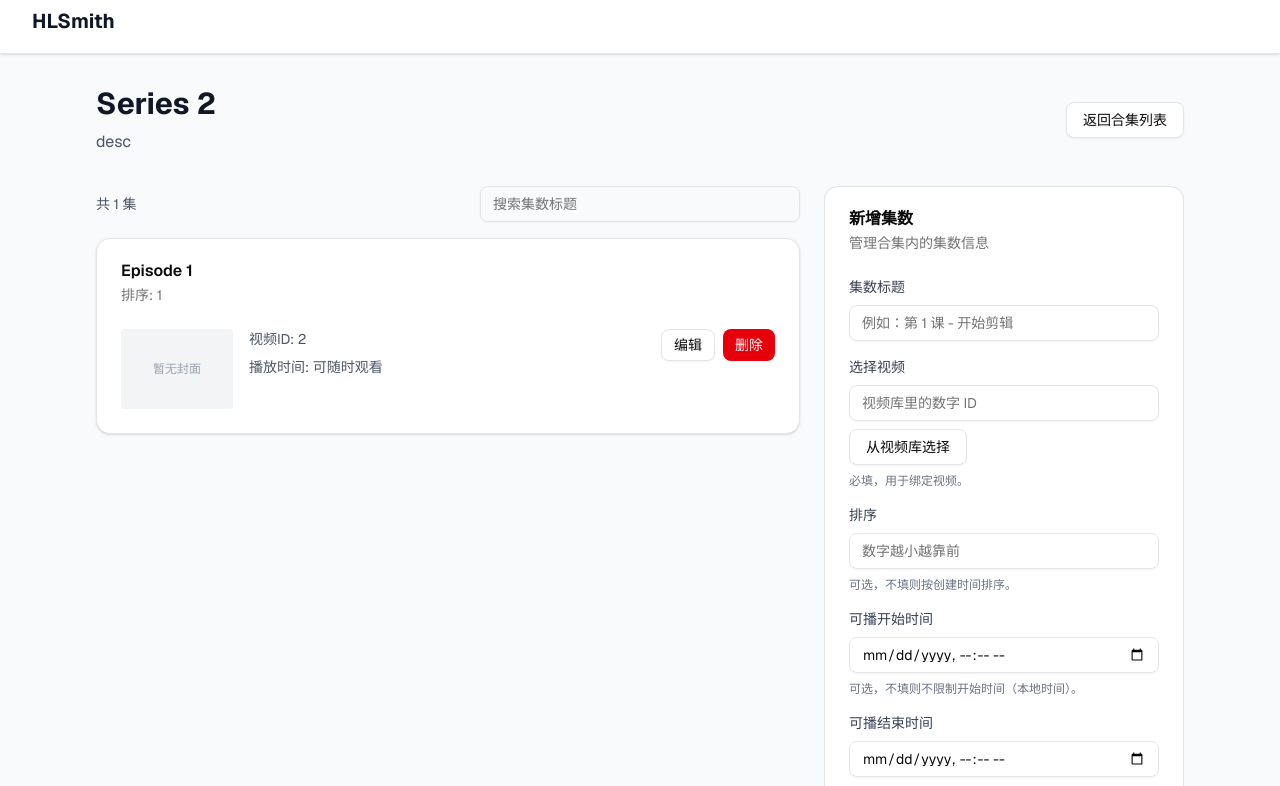
CollectionDetailPage › validates available window
Expected: the text "Episode 1" is shown, [121,260,193,281]
In the field labelled "集数标题": (1004, 323) [849,305,1159,341], type "Episode X"
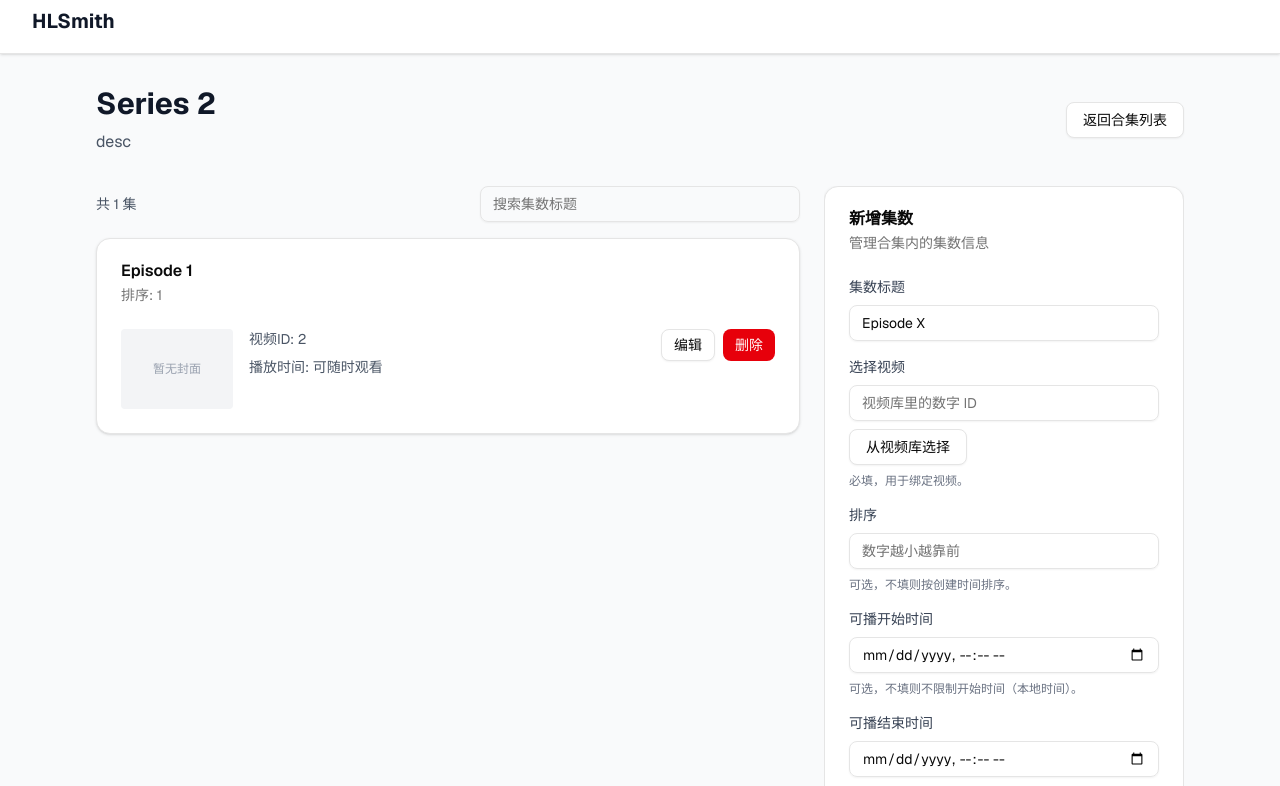
In the number field labelled "选择视频": (1004, 403) [849,385,1159,421], type "10"
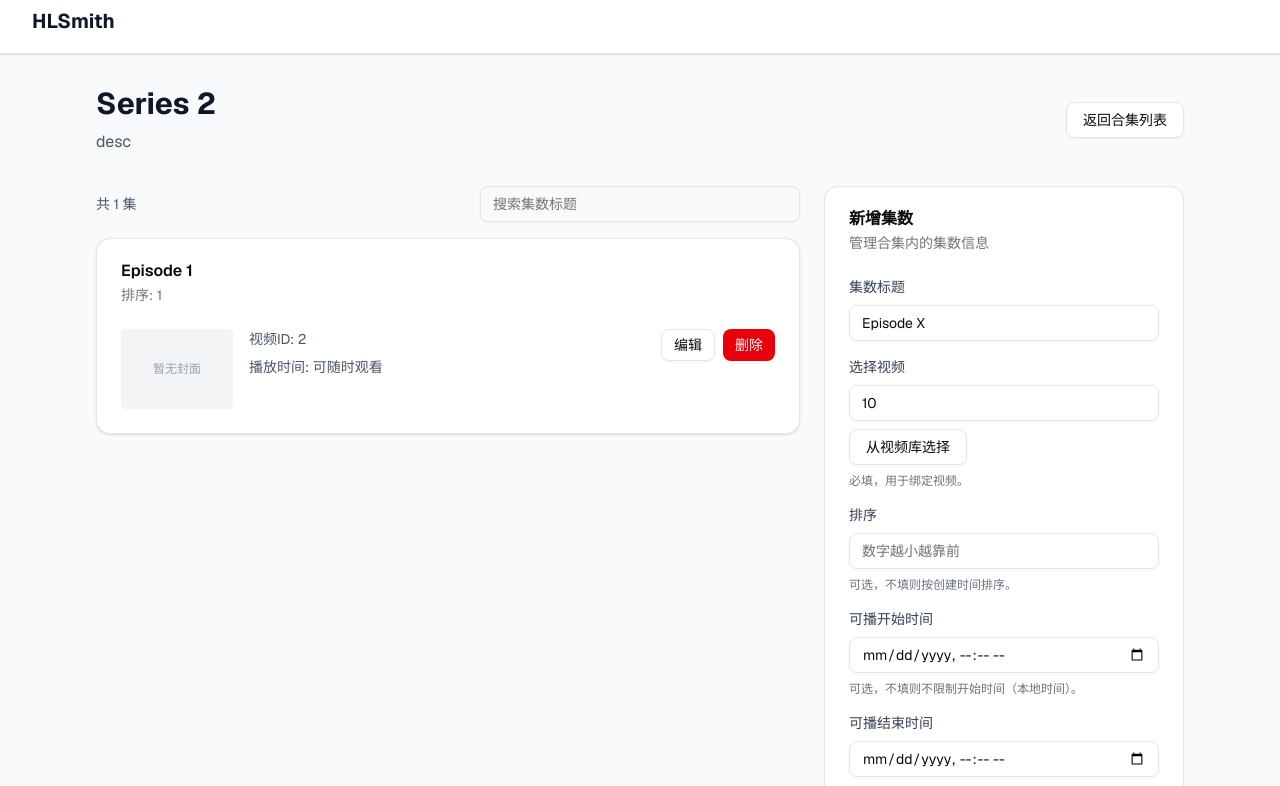
In the field labelled "可播开始时间": (1004, 655) [849,637,1159,673], type "2024-02-01T00:00"
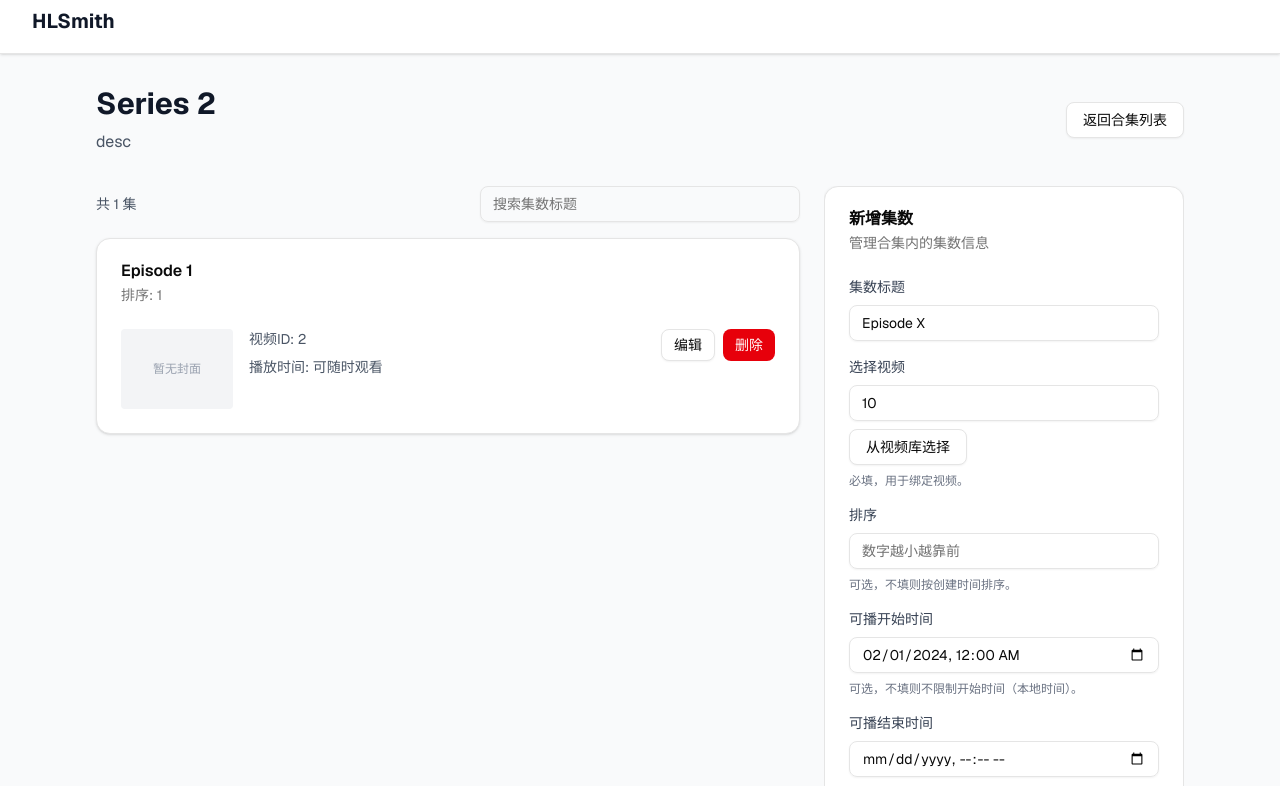
In the field labelled "可播结束时间": (1004, 759) [849,741,1159,777], type "2024-01-01T00:00"
(page scrolled)
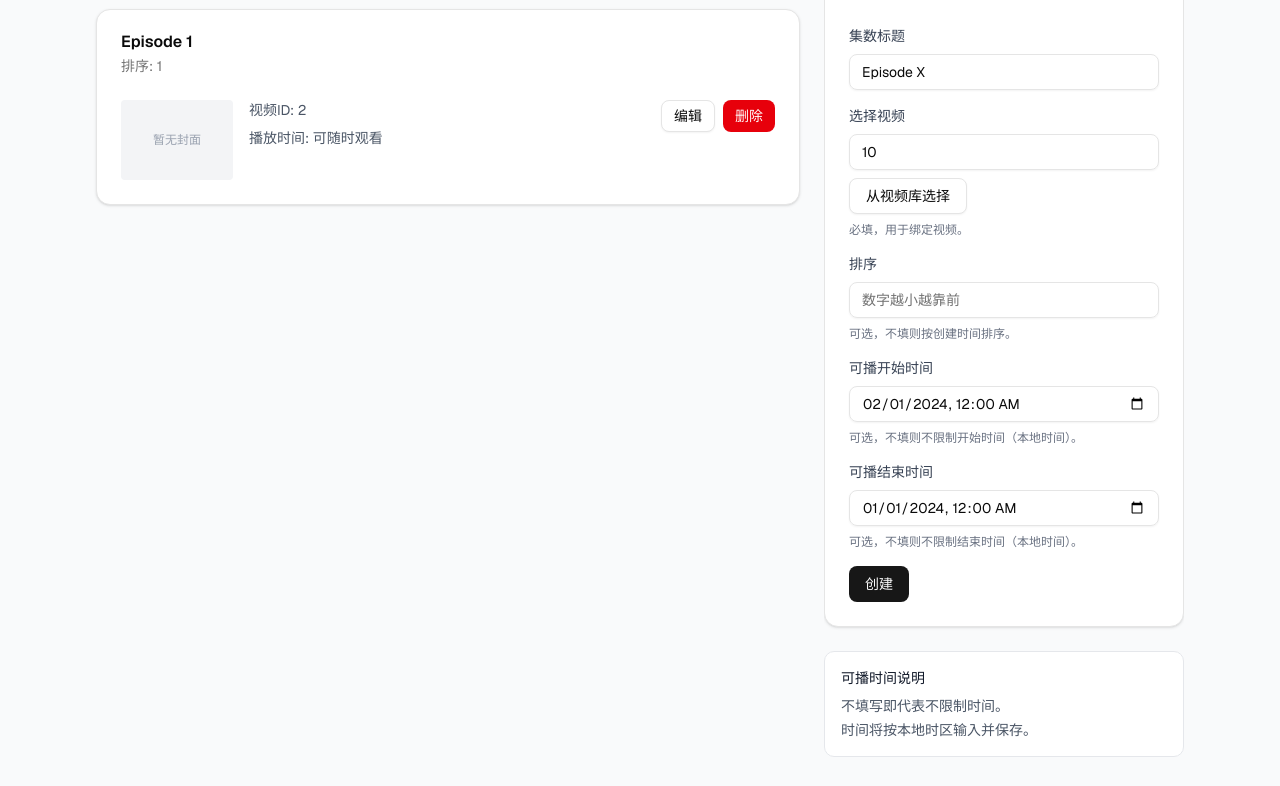
Click the button "创建": (879, 584) [849,566,909,602]
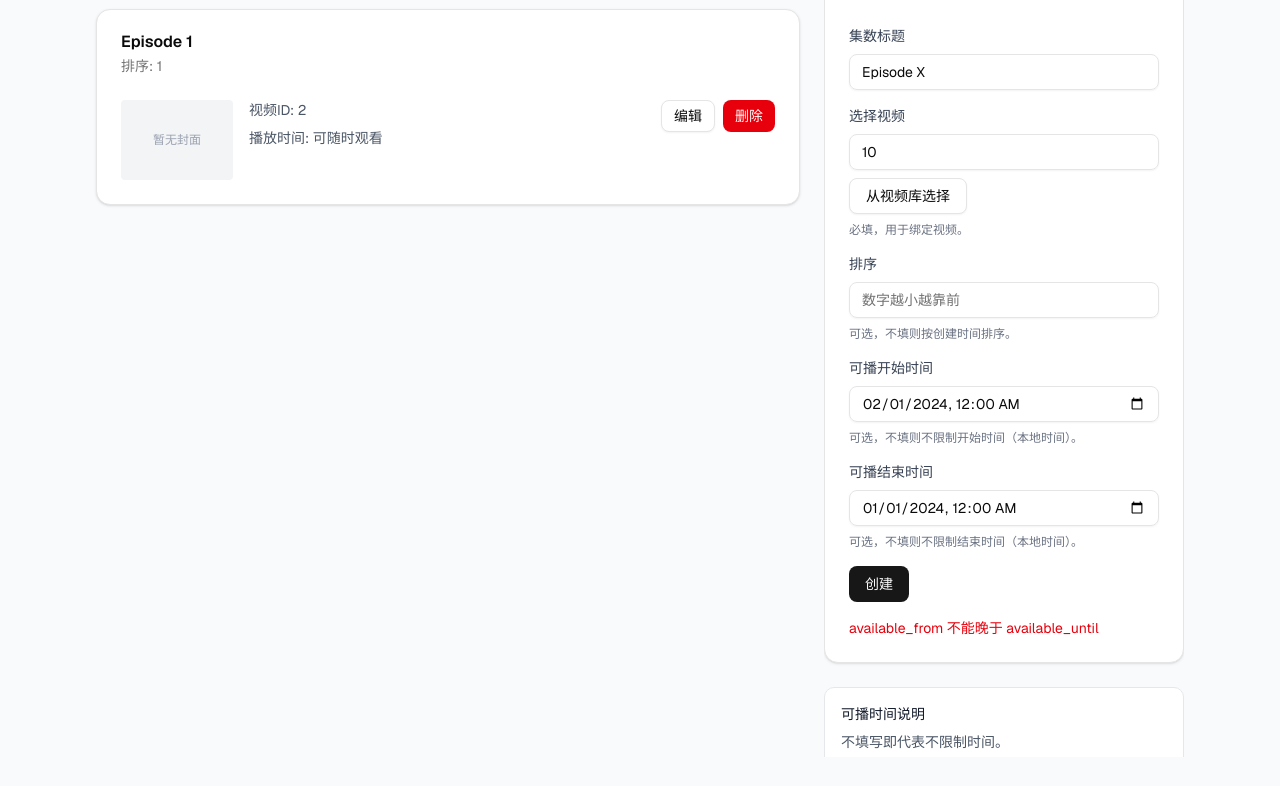
Now the text "available_from 不能晚于 available_until" is shown, box [849,619,1099,637]
